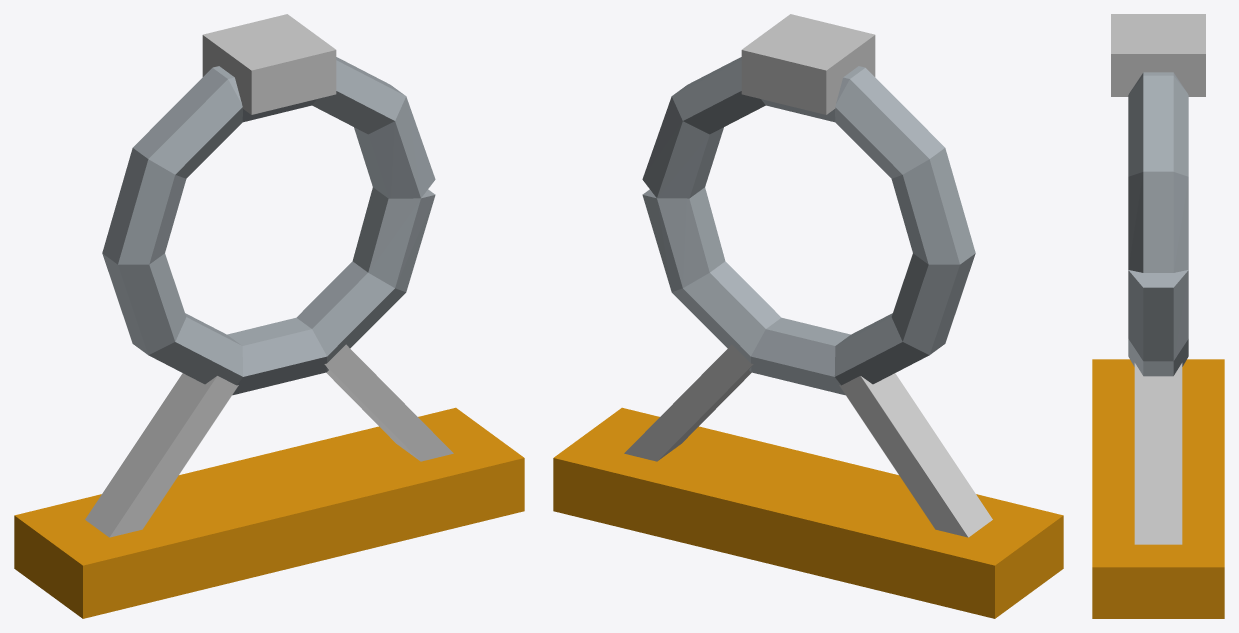
The model's file is body.obj.
3 views of the same model, side by side, from view 1: azimuth 30°, elevation 25°; view 2: azimuth 150°, elevation 25°; view 3: azimuth 270°, elevation 25° (orthographic). The views are drawn at different scales.
Bounding box in the file's own units: 0.52 × 0.56 × 0.14.
